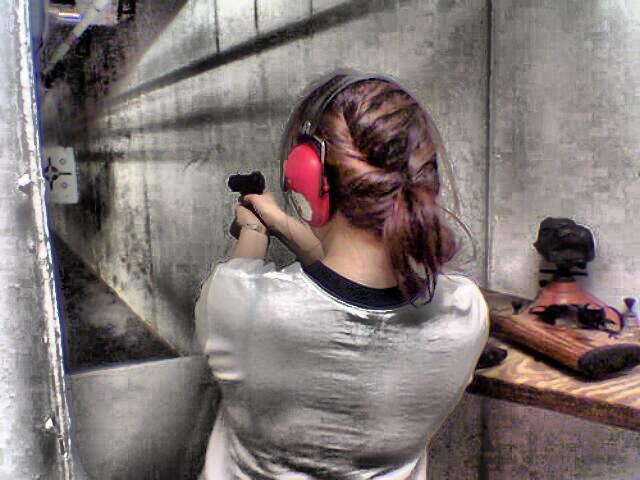pistol: (226, 170, 264, 214)
